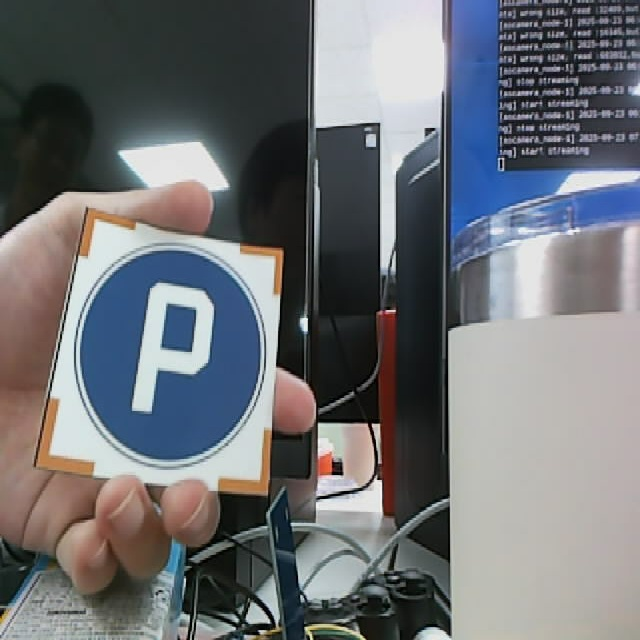parking: (35, 203, 287, 499)
